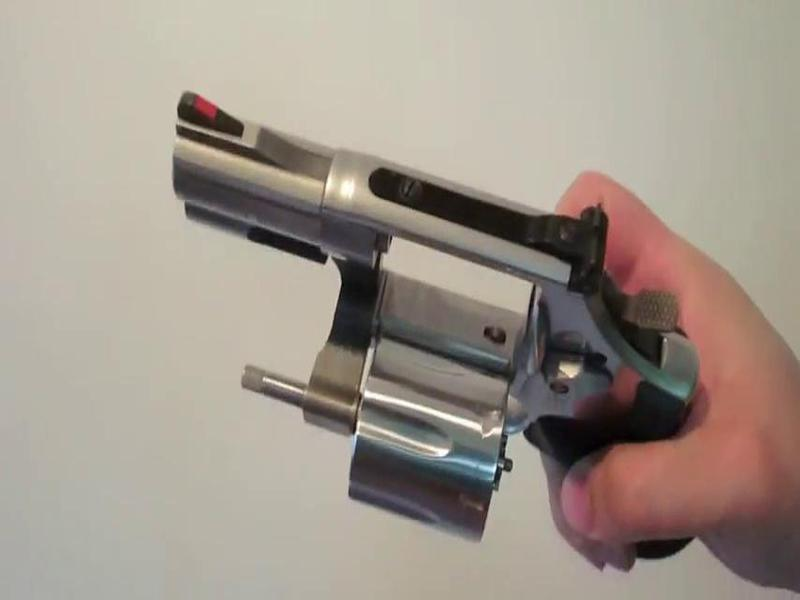Revolver: (172, 66, 701, 547)
